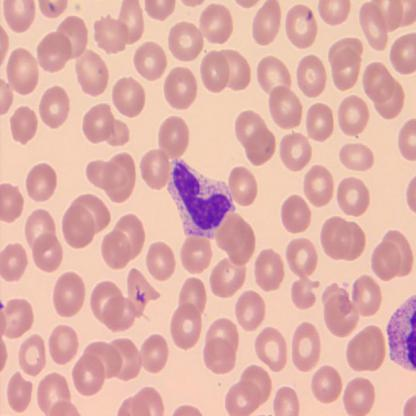Metamyelocyte: (165, 155, 236, 240)
